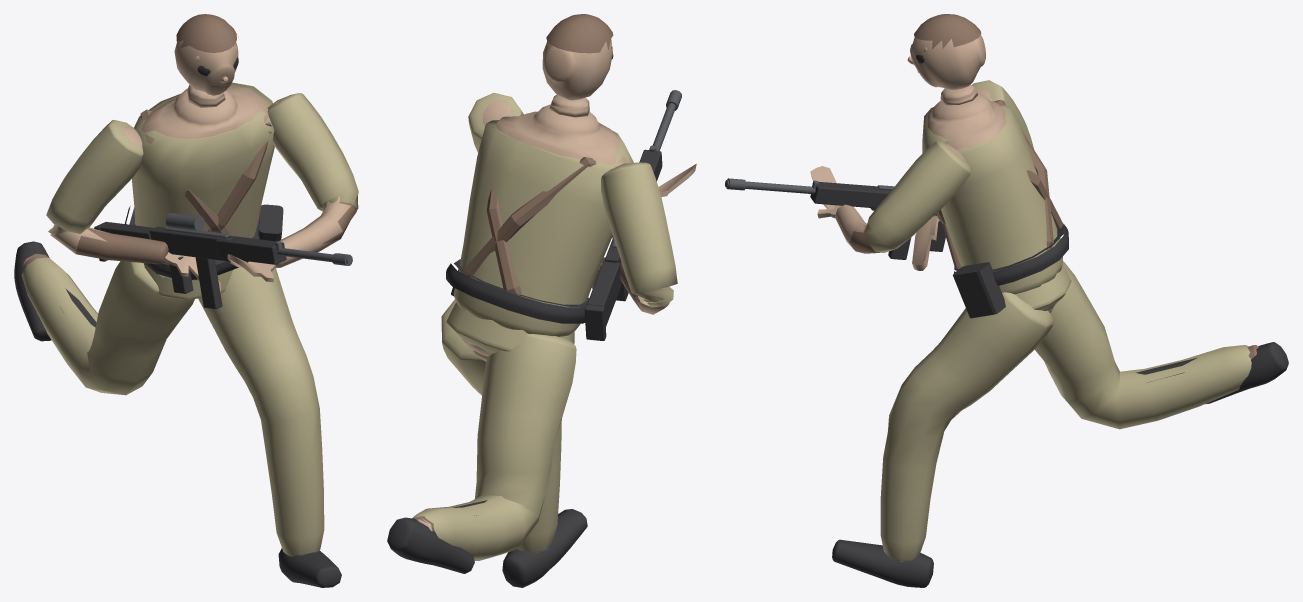
The model's file is tactical-shooter-hill-town-heavy-gunner-running-02d05fb0__27585.glb.
The picture shows the model from 3 angles, left to right: view 1: azimuth 30°, elevation 25°; view 2: azimuth 150°, elevation 25°; view 3: azimuth 270°, elevation 25°; orthographic projection. The views are drawn at different scales.
Parts seen in each view (by area): view 1: heavy-gunner-running; view 2: heavy-gunner-running; view 3: heavy-gunner-running.
Boxes of the visible parts, x1,y1,x2,y2 form: heavy-gunner-running: (14, 14, 358, 587); heavy-gunner-running: (387, 14, 696, 587); heavy-gunner-running: (725, 14, 1288, 587).
Bounding box in the file's own units: 0.7546 × 1.7 × 1.62.
